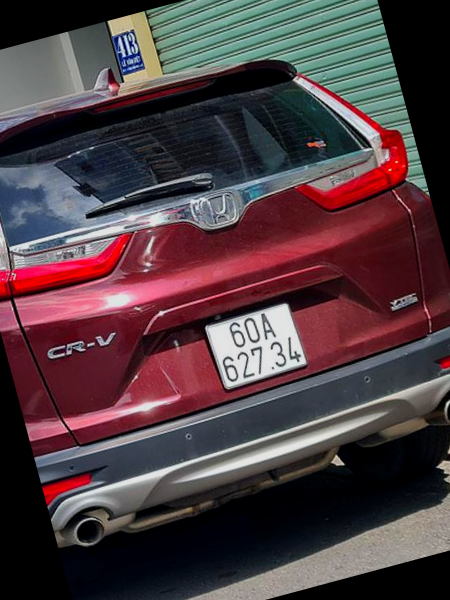lisence: (206, 301, 308, 390)
